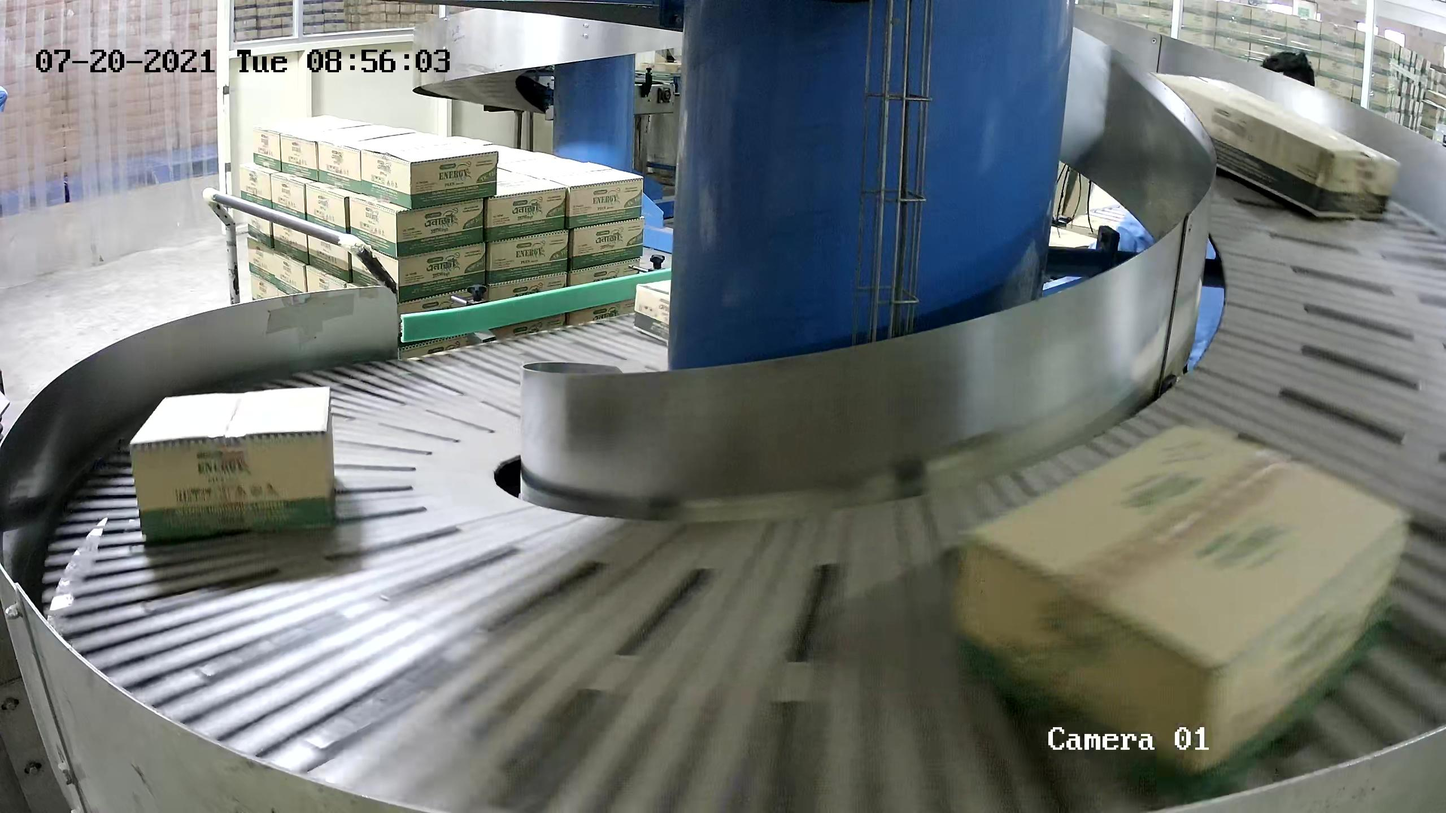Box: (946, 418, 1414, 813), (1146, 69, 1403, 221), (128, 384, 337, 542), (632, 277, 671, 343)
